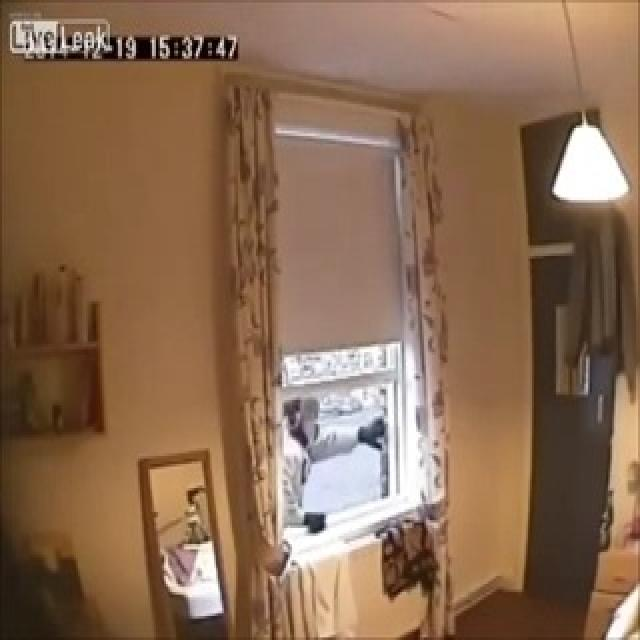thief: (280, 389, 329, 525)
